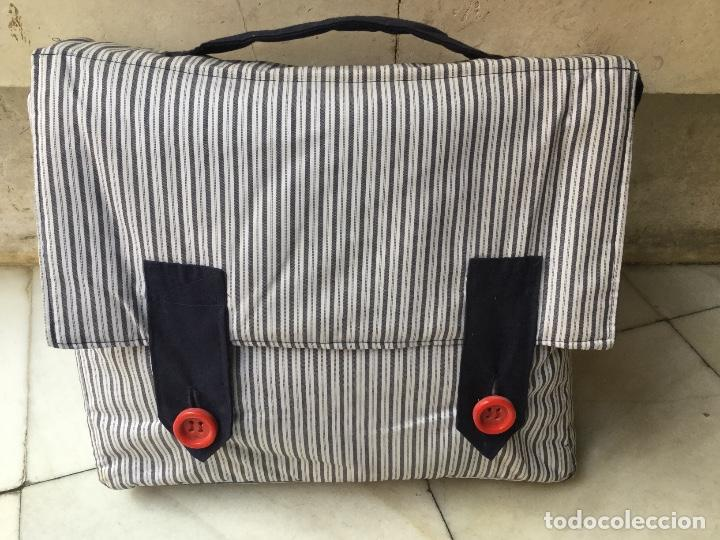cartera: (6, 10, 705, 499)
tela: (192, 151, 435, 256)
